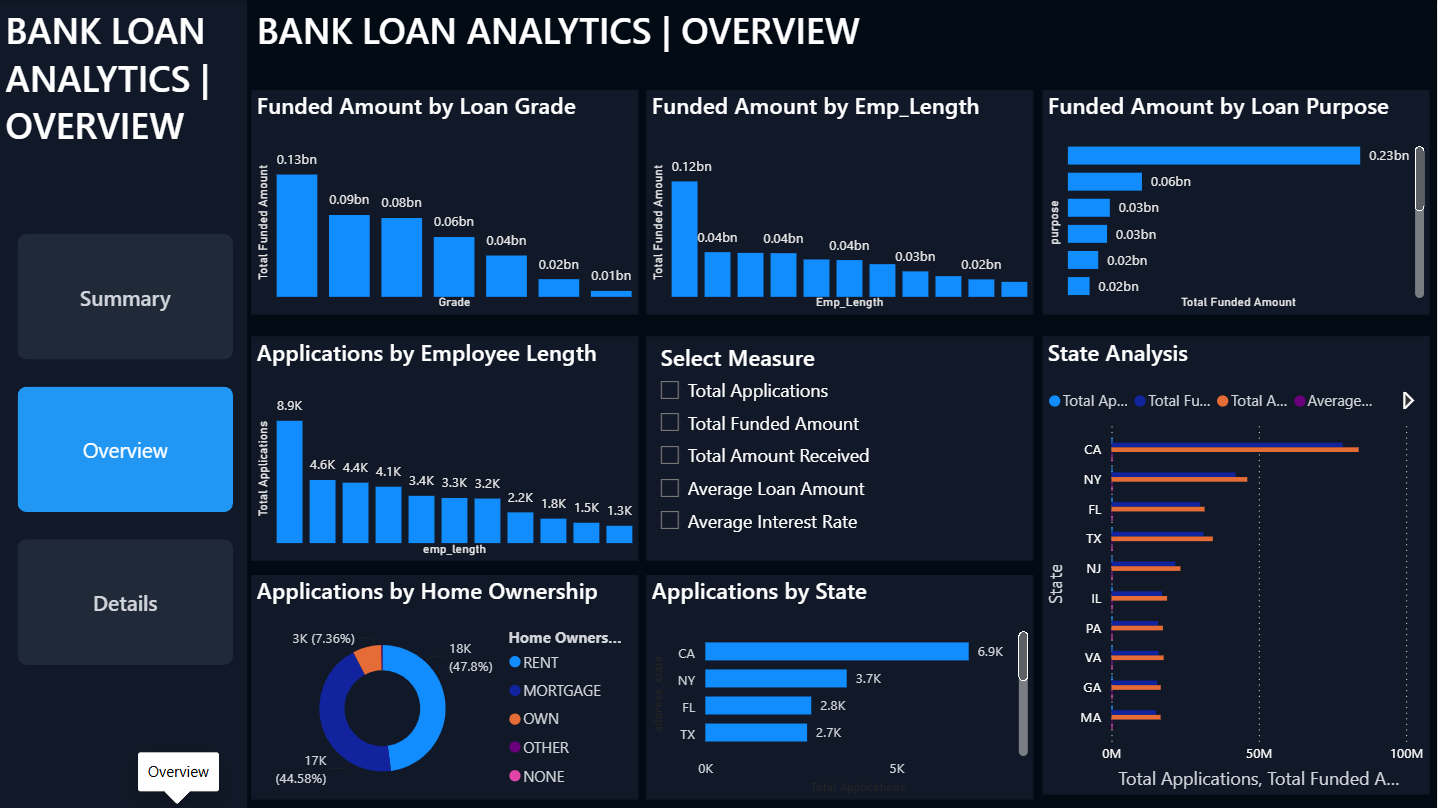

The dashboard page shown, as its layout file describes it:
{"tool":"powerbi","page":{"name":"Overview","canvas":[1280,720],"ordinal":1},"visuals":[{"type":"shape","box":[0,0,220,720],"z":0},{"type":"clusteredBarChart","title":"Applications by State","fields":{"Category":["financial_loan.address_state"],"Y":["_Measures.Total Applications"]},"box":[576,512,345,200],"z":1000},{"type":"clusteredBarChart","title":"Funded Amount by Loan Purpose","fields":{"Category":["financial_loan.purpose"],"Y":["_Measures.Total Funded Amount"]},"box":[928,80,345,200],"z":2000},{"type":"clusteredColumnChart","title":"Funded Amount by Loan Grade","fields":{"Category":["financial_loan.grade"],"Y":["_Measures.Total Funded Amount"]},"box":[224,80,345,200],"z":3000},{"type":"clusteredColumnChart","title":"Applications by Employee Length","fields":{"Category":["financial_loan.emp_length"],"Y":["_Measures.Total Applications"]},"box":[224,299,345,200],"z":4000},{"type":"donutChart","title":"Applications by Home Ownership","fields":{"Category":["financial_loan.home_ownership"],"Y":["_Measures.Total Applications"]},"box":[224,512,345,200],"z":5000},{"type":"clusteredColumnChart","title":"Funded Amount by Emp_Length","fields":{"Category":["financial_loan.emp_length"],"Y":["_Measures.Total Funded Amount"]},"box":[576,80,345,200],"z":6000},{"type":"slicer","title":"Select  Measure","fields":{"Values":["Select Measure.Select Measure"]},"box":[576,299,345,200],"z":7000},{"type":"clusteredBarChart","title":"State Analysis","fields":{"Category":["financial_loan.address_state"],"Y":["_Measures.Total Applications","_Measures.Total Funded Amount","_Measures.Total Amount Received","_Measures.Average Loan Amount","_Measures.Average Interest Rate"]},"box":[928,300,345,408],"z":8000},{"type":"textbox","box":[0,0,208,144],"z":9000},{"type":"pageNavigator","box":[16,208,192,384],"z":10000},{"type":"textbox","box":[224,0,592,64],"z":11000}]}

Visuals, with their boxes in screenshot pixels (x1, y1, x2, y2), scaled from the page's 1280x720 canvas onto the 1438x808 screenshot:
shape: <box>0,0,247,807</box>
"Applications by State" clusteredBarChart: <box>647,575,1035,799</box>
"Funded Amount by Loan Purpose" clusteredBarChart: <box>1043,90,1430,314</box>
"Funded Amount by Loan Grade" clusteredColumnChart: <box>252,90,639,314</box>
"Applications by Employee Length" clusteredColumnChart: <box>252,336,639,560</box>
"Applications by Home Ownership" donutChart: <box>252,575,639,799</box>
"Funded Amount by Emp_Length" clusteredColumnChart: <box>647,90,1035,314</box>
"Select  Measure" slicer: <box>647,336,1035,560</box>
"State Analysis" clusteredBarChart: <box>1043,337,1430,795</box>
textbox: <box>0,0,234,162</box>
pageNavigator: <box>18,233,234,664</box>
textbox: <box>252,0,917,72</box>
